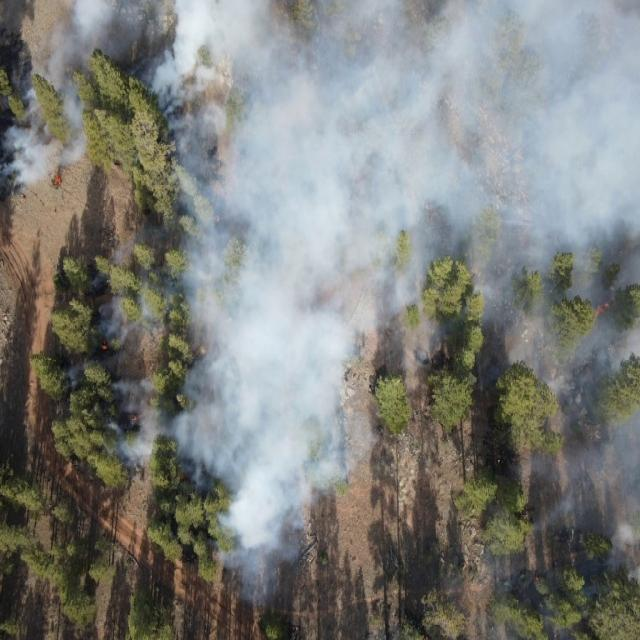fire: (590, 299, 614, 317), (51, 174, 62, 185), (100, 341, 110, 351), (129, 411, 138, 422), (534, 575, 540, 585)
smoke: (156, 157, 640, 378), (41, 0, 640, 156), (156, 377, 382, 606), (511, 379, 640, 595), (62, 227, 156, 475), (444, 594, 586, 640), (450, 503, 510, 592), (1, 68, 42, 188), (43, 157, 83, 189)
